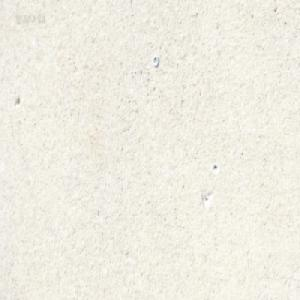Washer: (152, 54, 158, 67)
